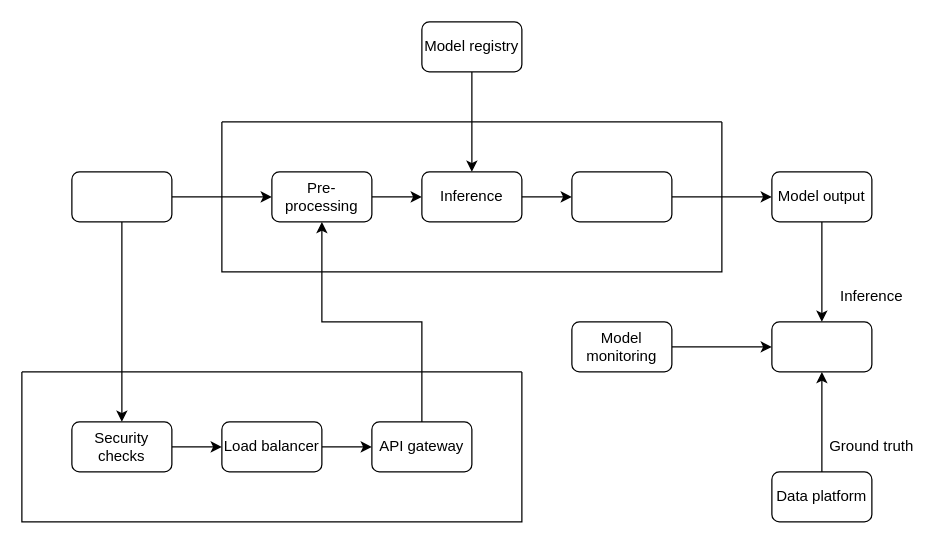
The diagram is 944 pixels wide and 544 high, and some of its shapes have lost their labels. The shapes that lost their labels are listed below. From the top down, each one's centre as x and y in pixels, then its label:
(x=121, y=196): Model input
(x=621, y=196): Post-processing
(x=821, y=346): Storage
(x=271, y=446): API
